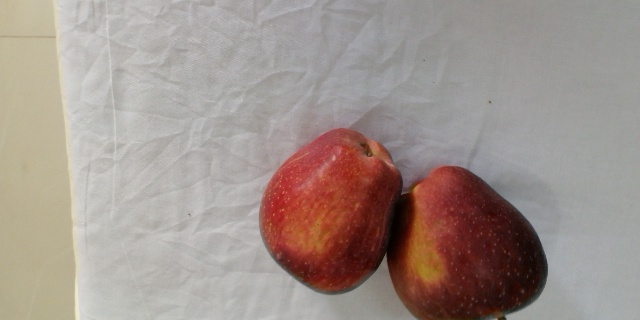apple_kashmir: (385, 161, 550, 320), (257, 125, 404, 295)
